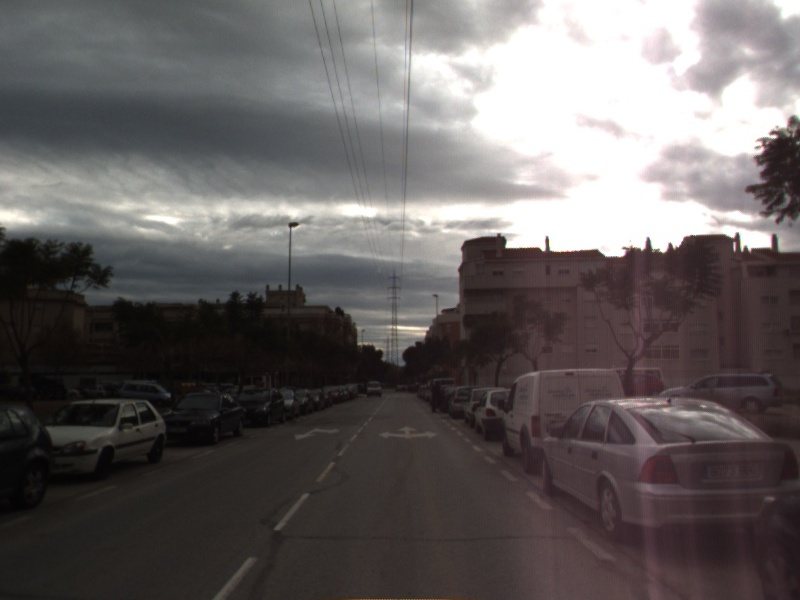STRAIGHT_LEFT_RIGHT: (377, 424, 440, 441)
